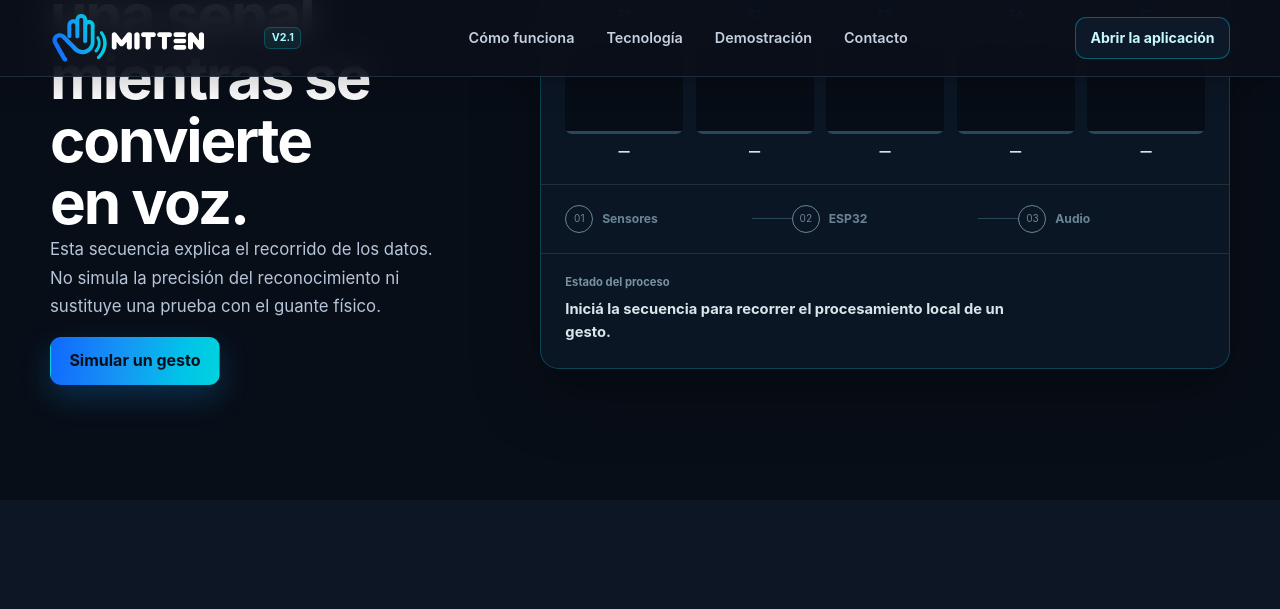
Test: PublicHomePage › runs the conceptual sensor-to-audio demonstration
The width and height of the screenshot is (1280, 609).
(page scrolled)
Click the button "Simular un gesto".
click(135, 361)  # box [50,337,220,385]
Wait 2200 ms
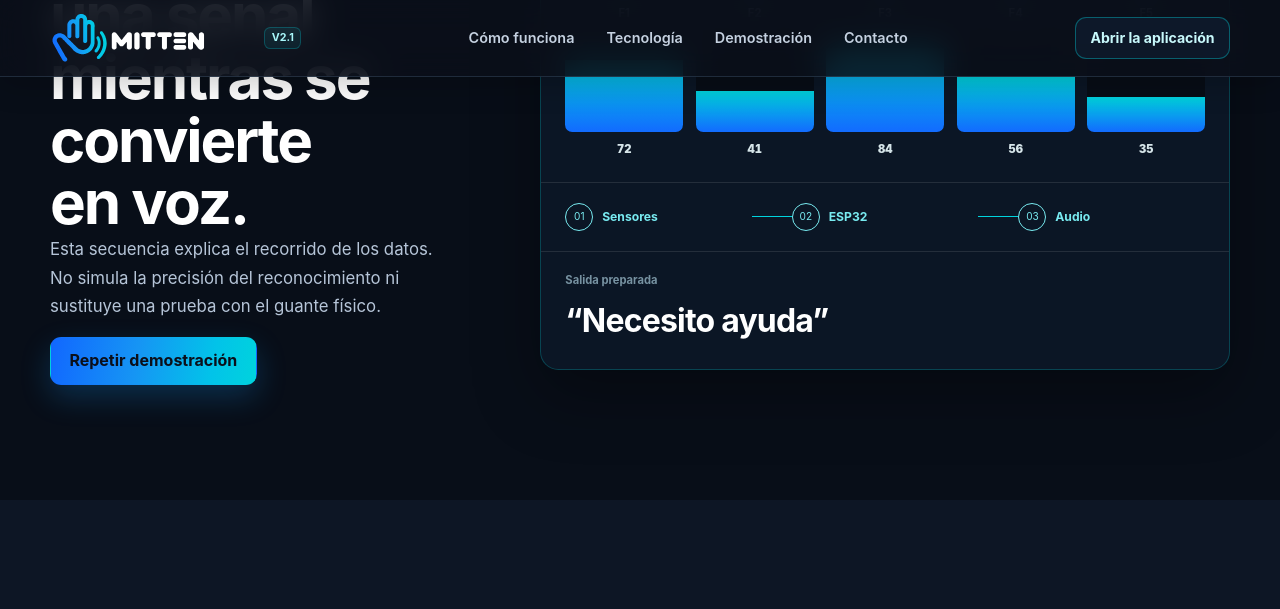
expect the text "“Necesito ayuda”" is shown: met, box [565,301,828,340]
